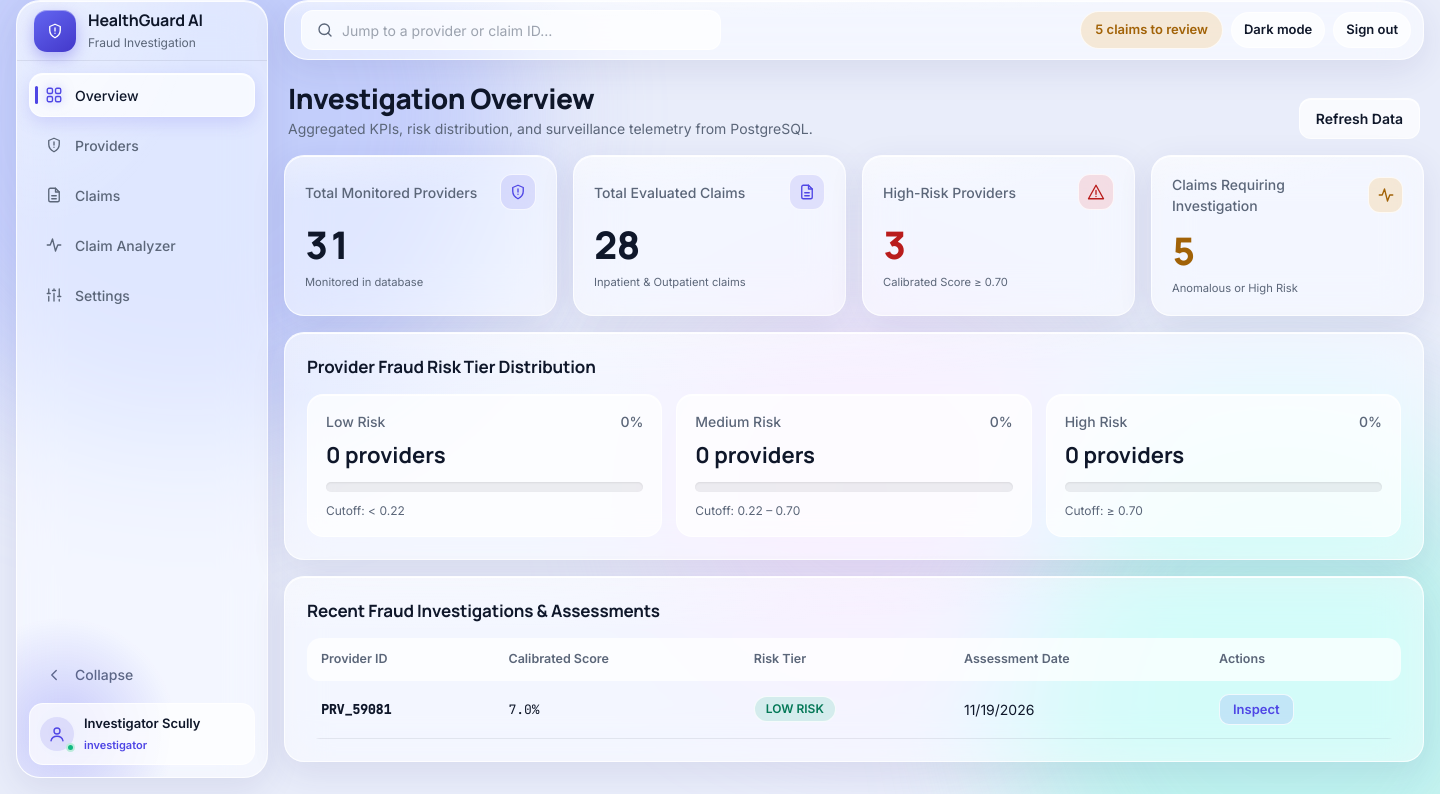
Test: HealthGuard AI Frontend Integration Tests › Claim Fraud Analyzer Probability & Risk Tier Validation › verifies Overview recent assessments mapping and Claim Analyzer simplified investigator UI headings
This screenshot has width=1440, height=794.
Expected: the text "PRV_59081" is shown, [321,701,391,718]
Expected: the text "7.0%" is shown, [494,681,740,739]
Note: Navigate to Claim Analyzer
Click the button "Claim Analyzer".
click(142, 245)  # box [29,223,255,267]
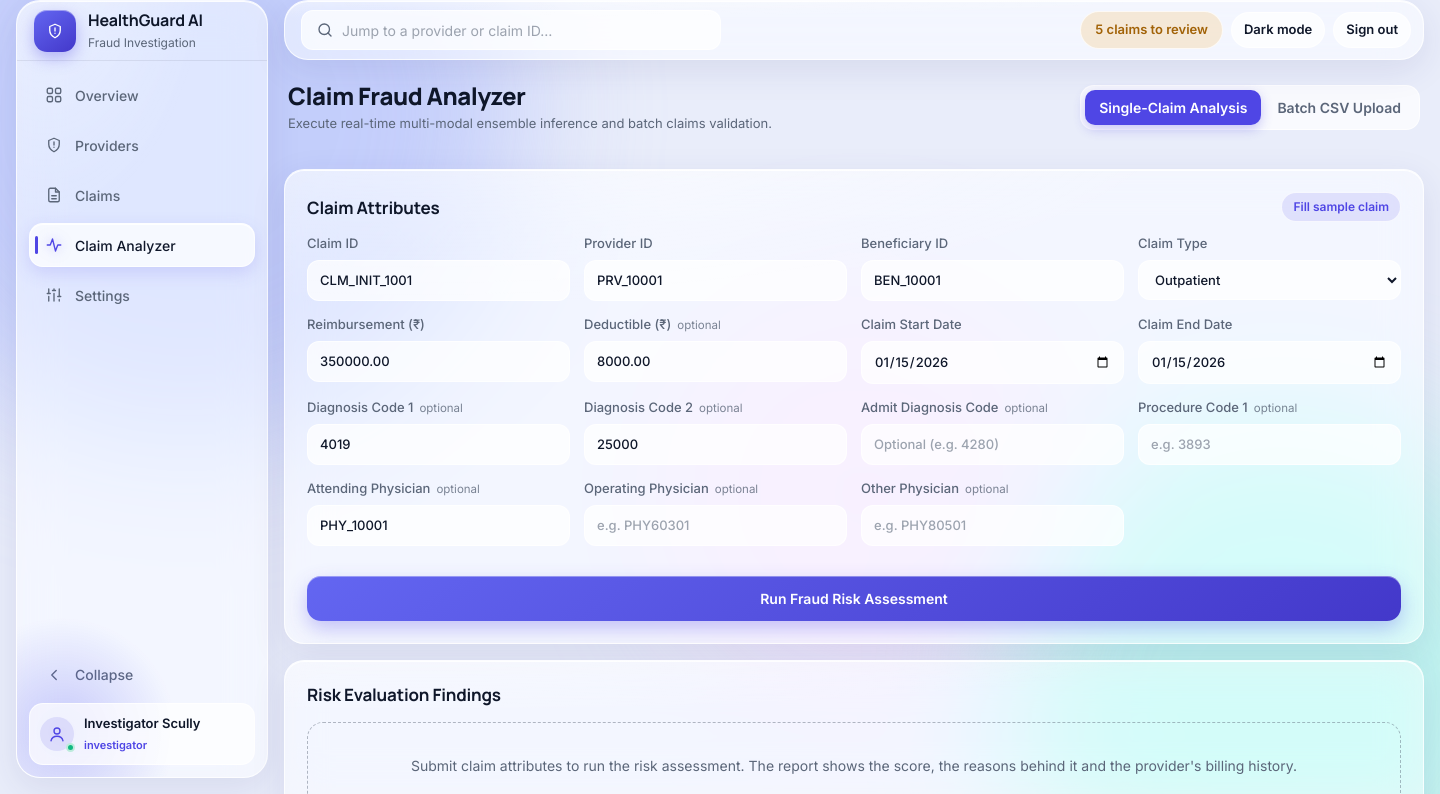
Click the button "Run Fraud Risk Assessment".
click(854, 599)  # box [307,576,1401,621]
(page scrolled)
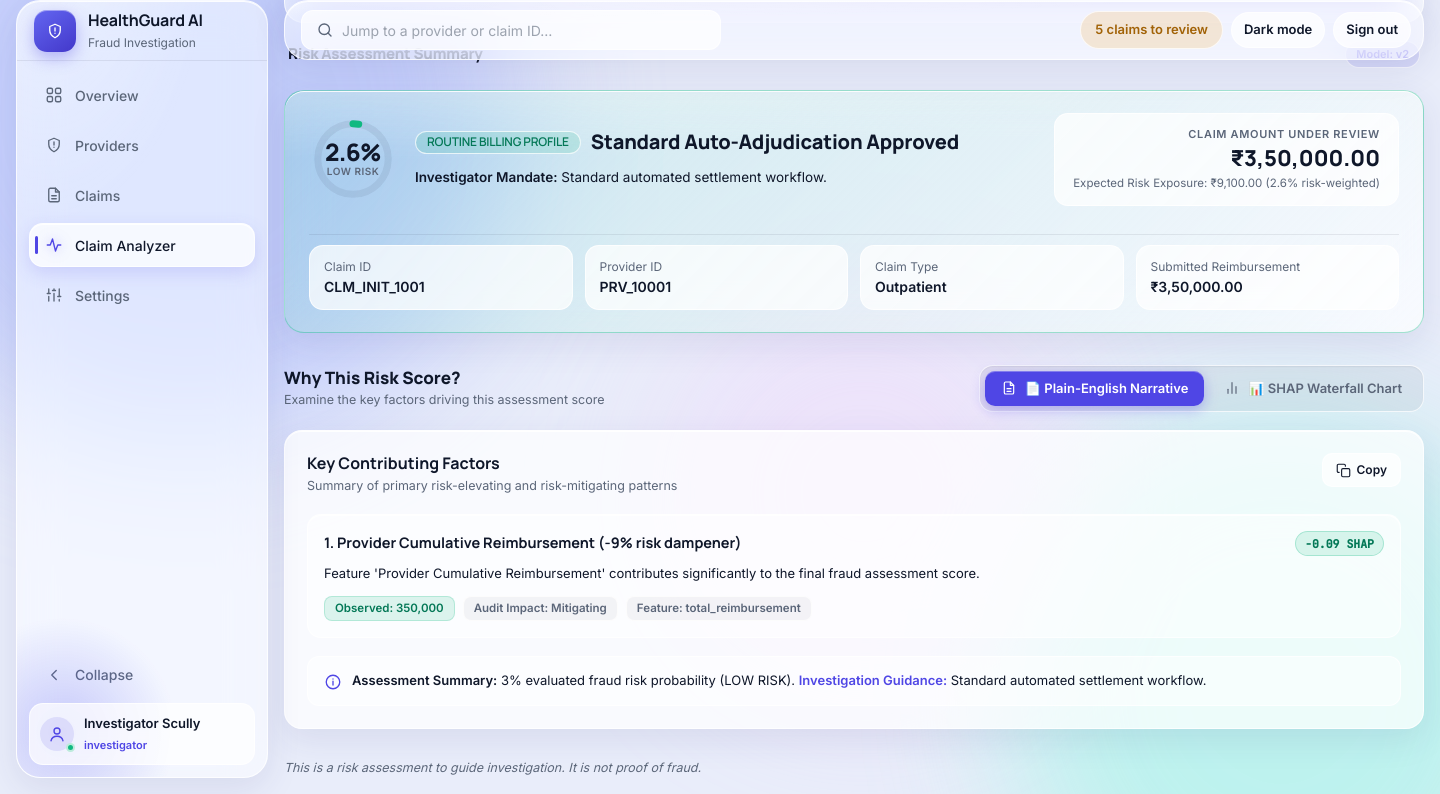
Now the text "Risk Assessment Summary" is shown, box [288,45,483,63]
Now the text "Claim Amount Under Review" is shown, box [1188,127,1380,141]
Now the heading "Why This Risk Score?" is shown, box [284,367,461,389]
